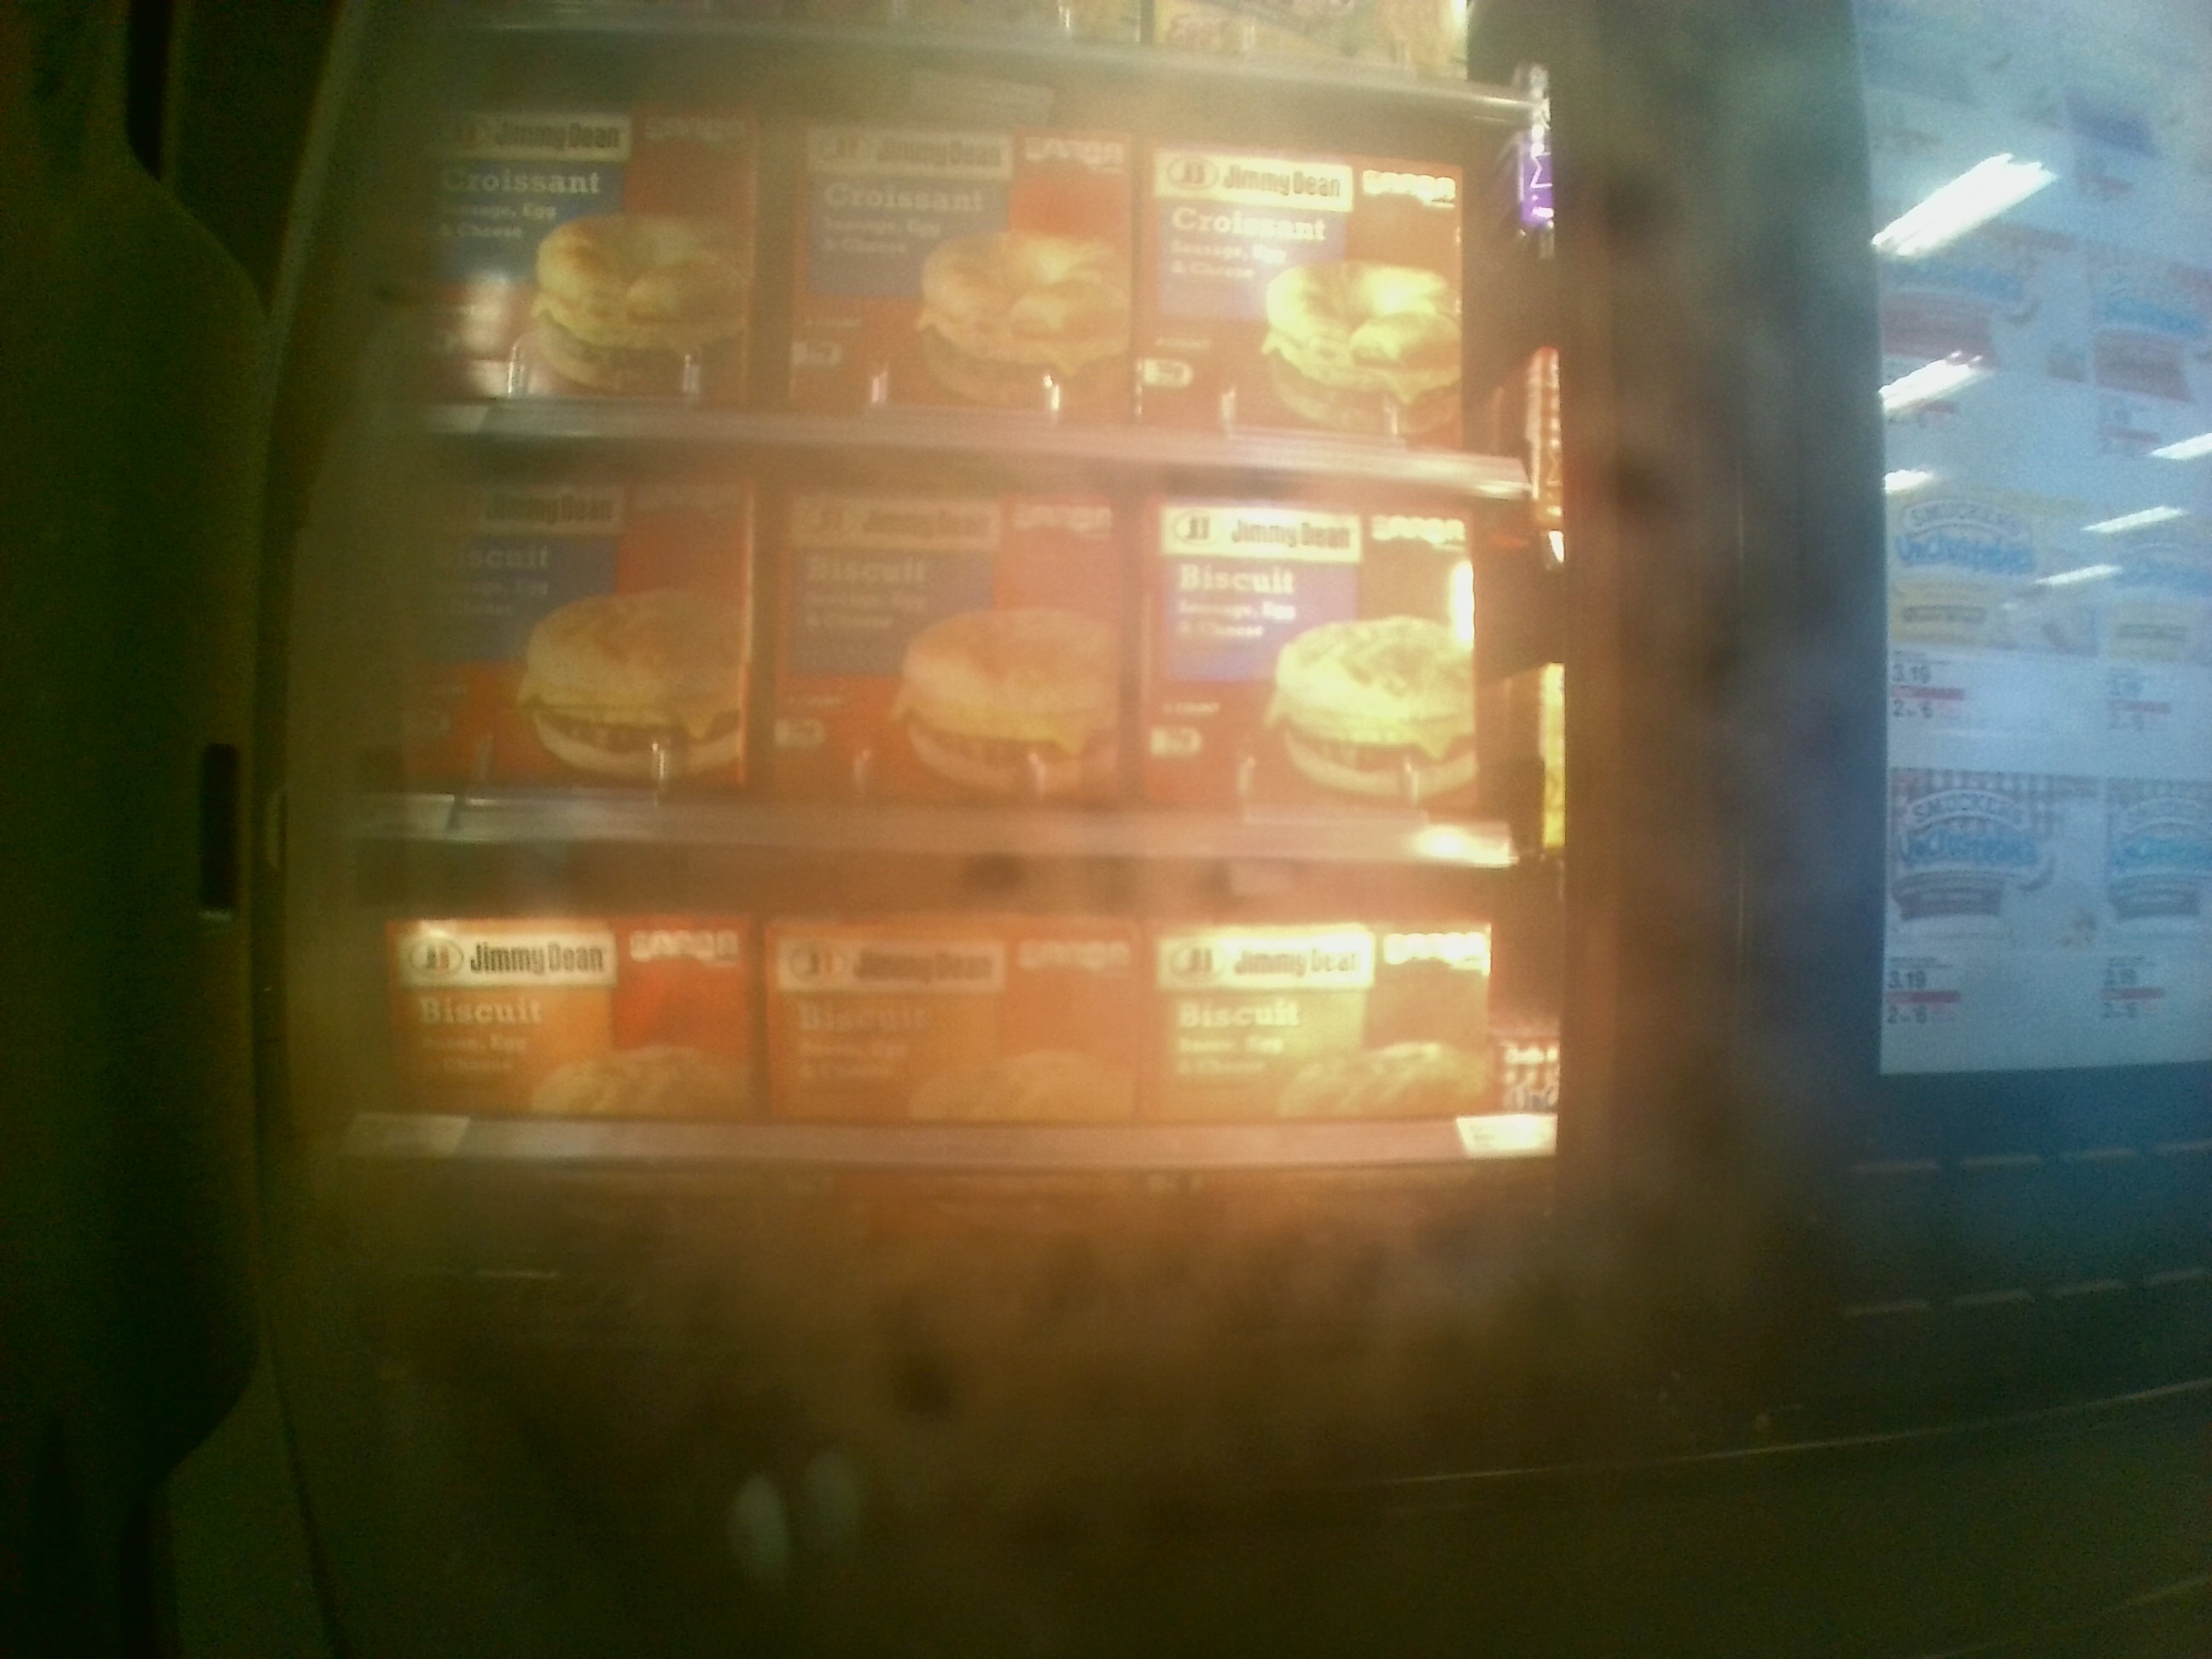shelf: (341, 843, 1559, 1321), (392, 441, 1538, 870)
